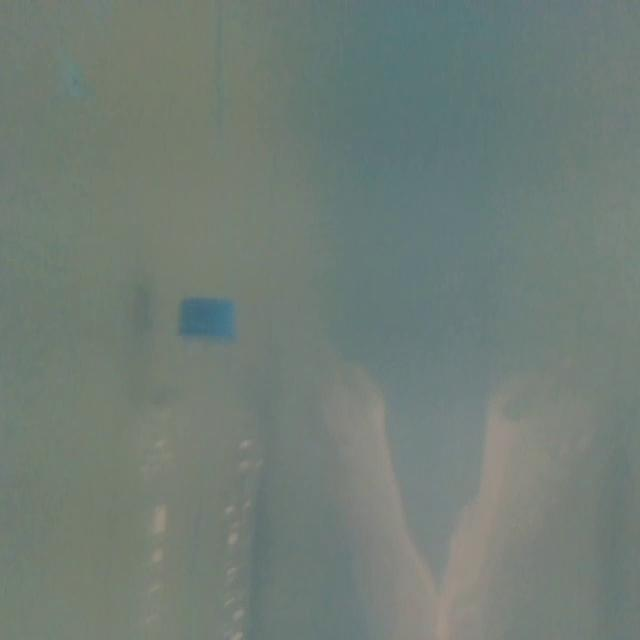plastic bottle: (134, 291, 252, 640)
